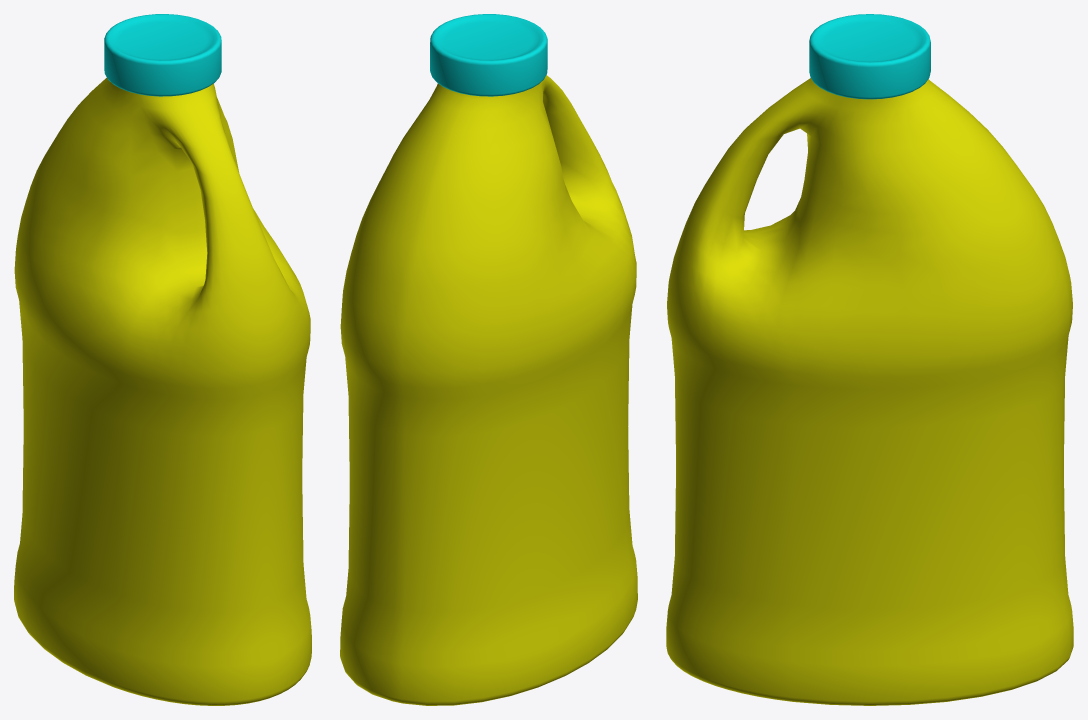
The model's file is Bleach.fbx.
The picture shows the model from 3 angles, left to right: view 1: azimuth 30°, elevation 25°; view 2: azimuth 150°, elevation 25°; view 3: azimuth 270°, elevation 25°; orthographic projection. The views are drawn at different scales.
Visible parts, largest first — view 1: Bleach; view 2: Bleach; view 3: Bleach.
Part boxes in pixels (x1=…): Bleach: x1=14, y1=14, x2=311, y2=705; Bleach: x1=340, y1=14, x2=637, y2=705; Bleach: x1=666, y1=14, x2=1073, y2=705.
Bounding box in the file's own units: 11.7 × 29.75 × 17.91.
